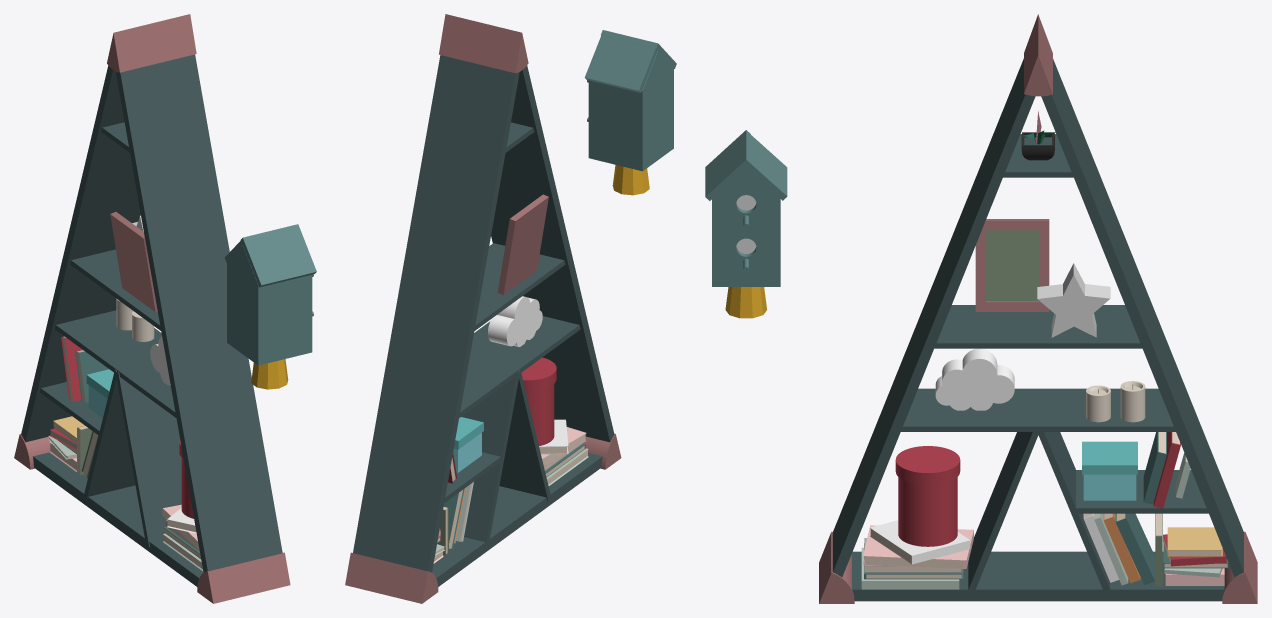
The model's file is Furn2_playzone_left_color2_joined.fbx.
The picture shows the model from 3 angles, left to right: view 1: azimuth 30°, elevation 25°; view 2: azimuth 150°, elevation 25°; view 3: azimuth 270°, elevation 25°; orthographic projection. The views are drawn at different scales.
Visible parts, largest first — view 1: Куб.088; view 2: Куб.088; view 3: Куб.088.
Part boxes in pixels (x1,y1,x2,y2): Куб.088: [14, 14, 316, 603]; Куб.088: [345, 14, 676, 603]; Куб.088: [705, 14, 1257, 603].
Bounding box in the file's own units: 99.56 × 534 × 488.
